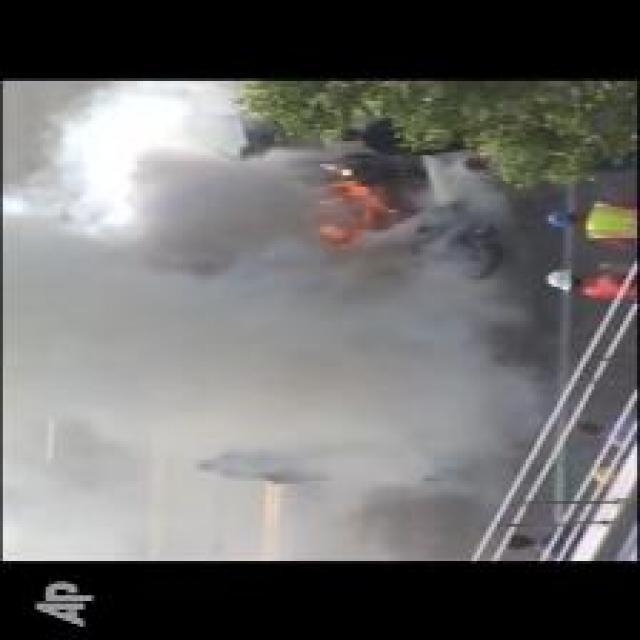Fire: (313, 178, 393, 250)
